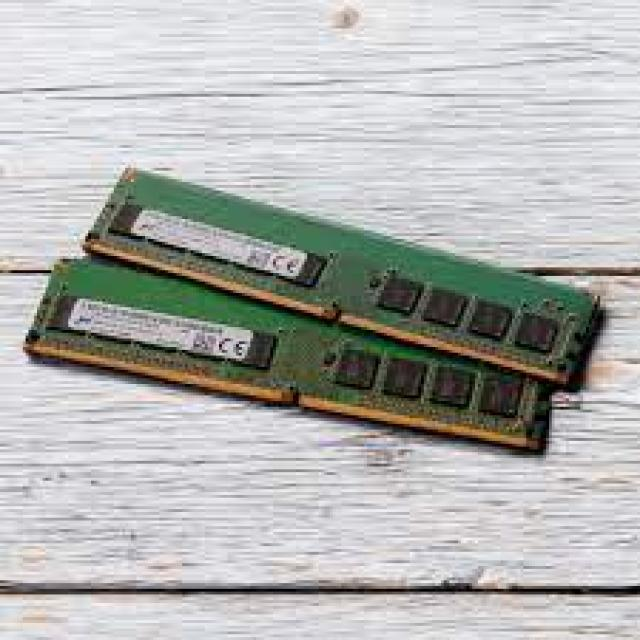Ram: (98, 118, 614, 485)
